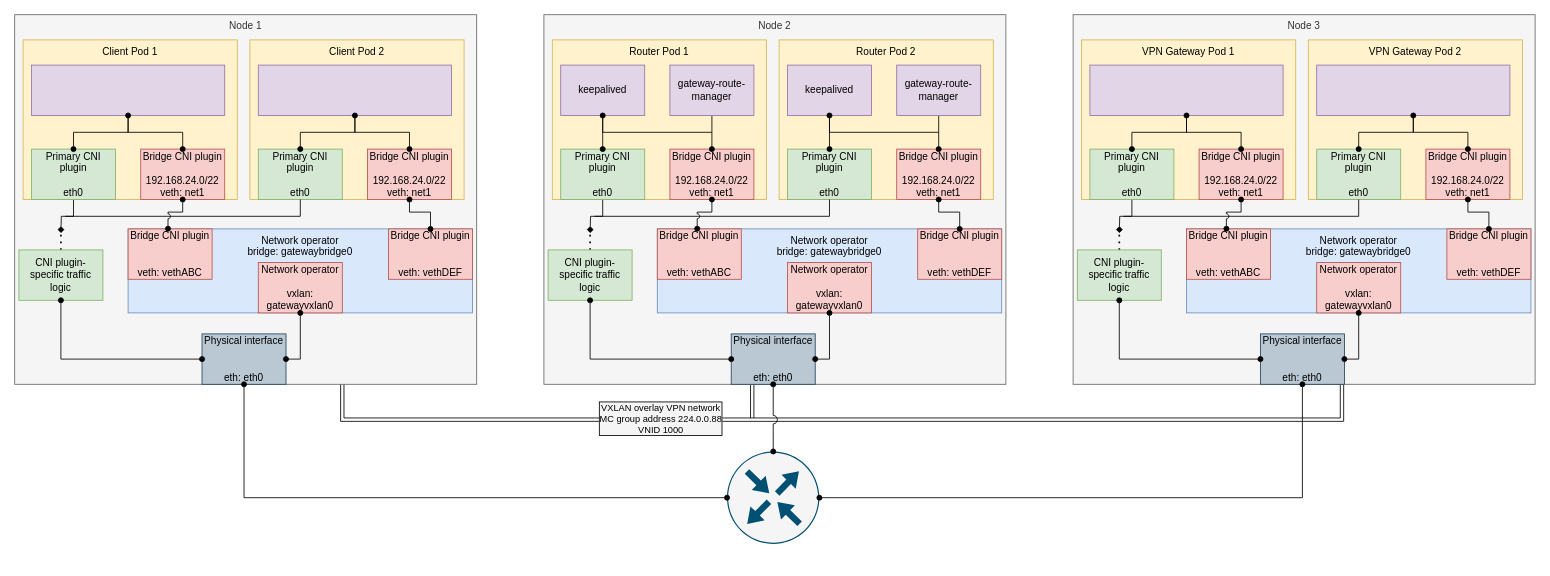
Some shapes in this 1550 by 576 pixel diagram are drawn without their labels. The shapes that lost their labels are listed below. From the top down, each one's centre as x and y in pixels, then its label:
[128,90]: QBT, NZBGet, etc.
[354,90]: CoreDNS
[1186,90]: gluetun VPN provider 1
[1413,90]: gluetun VPN provider 2
[772,497]: External network
